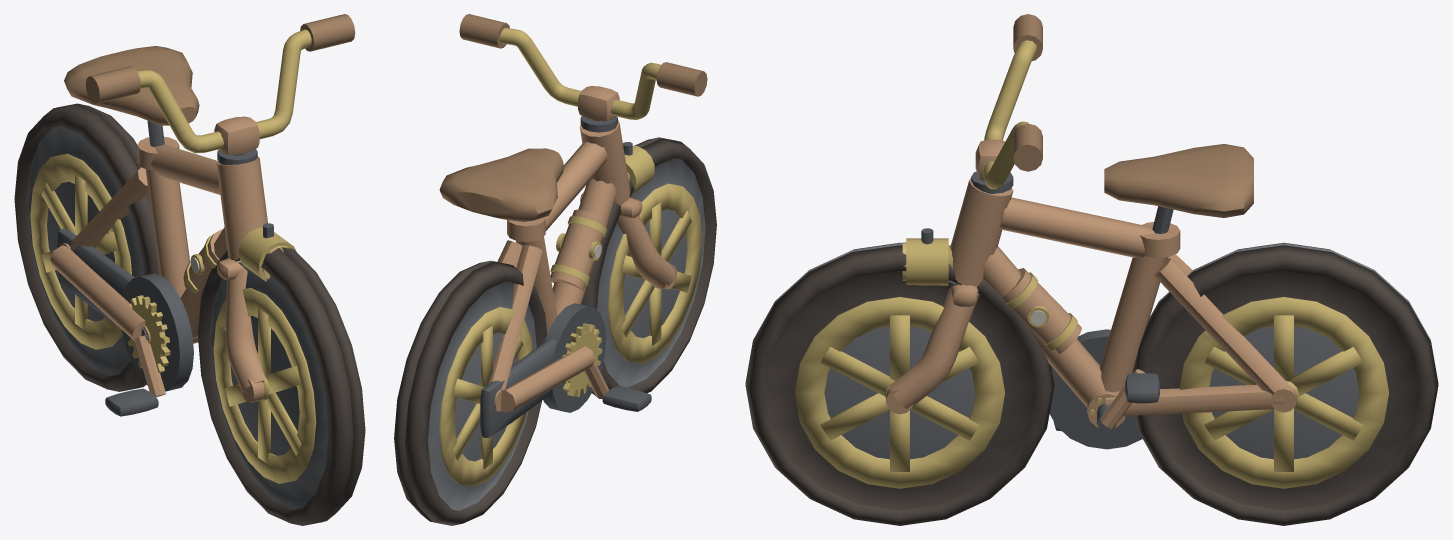
Rendered from bike.glb.
3 views of the same model, side by side, from view 1: azimuth 30°, elevation 25°; view 2: azimuth 150°, elevation 25°; view 3: azimuth 270°, elevation 25° (orthographic). The views are drawn at different scales.
Visible parts, largest first — view 1: wheel_f, frame, wheel_r, fork, crank_mesh; view 2: frame, wheel_r, wheel_f, fork, crank_mesh; view 3: wheel_r, wheel_f, frame, fork, crank_mesh.
Part boxes in pixels (x1,y1,x2,y2): wheel_f: (197, 247, 365, 525); frame: (50, 46, 267, 391); wheel_r: (14, 103, 159, 391); fork: (85, 14, 355, 402); crank_mesh: (105, 295, 170, 416); frame: (439, 116, 630, 437); wheel_r: (394, 260, 547, 525); wheel_f: (581, 137, 716, 399); fork: (459, 14, 707, 289); crank_mesh: (562, 323, 651, 411); wheel_r: (1132, 242, 1438, 525); wheel_f: (745, 242, 1054, 525); frame: (948, 144, 1296, 449); fork: (886, 14, 1042, 414); crank_mesh: (1053, 369, 1159, 431).
Bounding box in the file's own units: 0.62 × 0.985 × 1.39.
